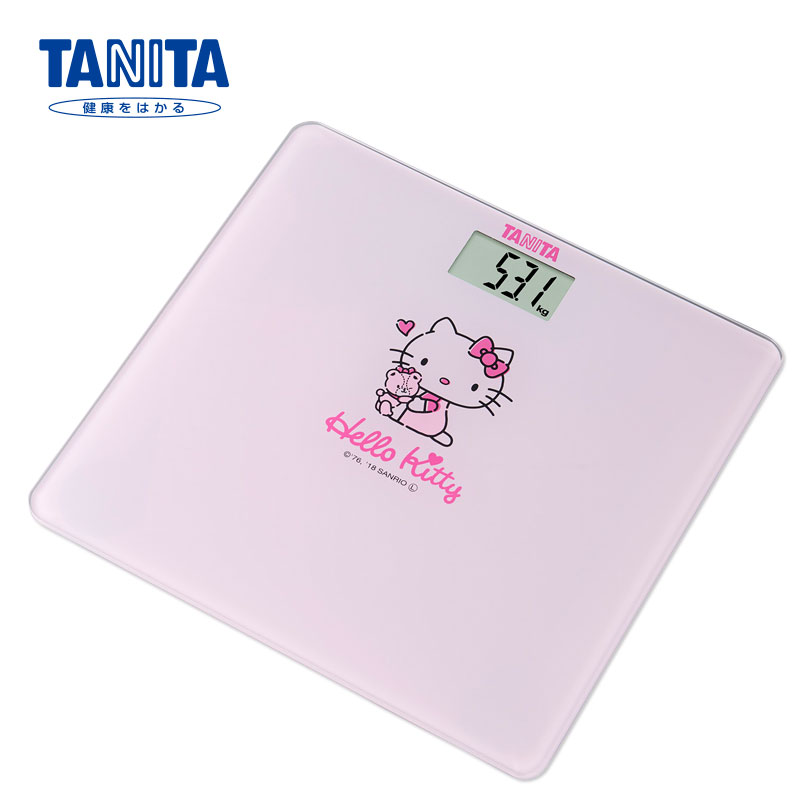LCD: (447, 229, 576, 324)
